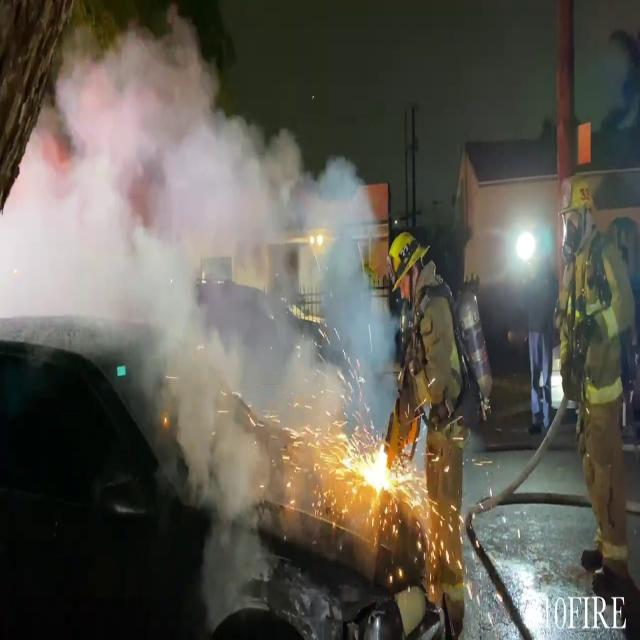Fire: (358, 436, 397, 504)
Smoke: (1, 9, 387, 486)
